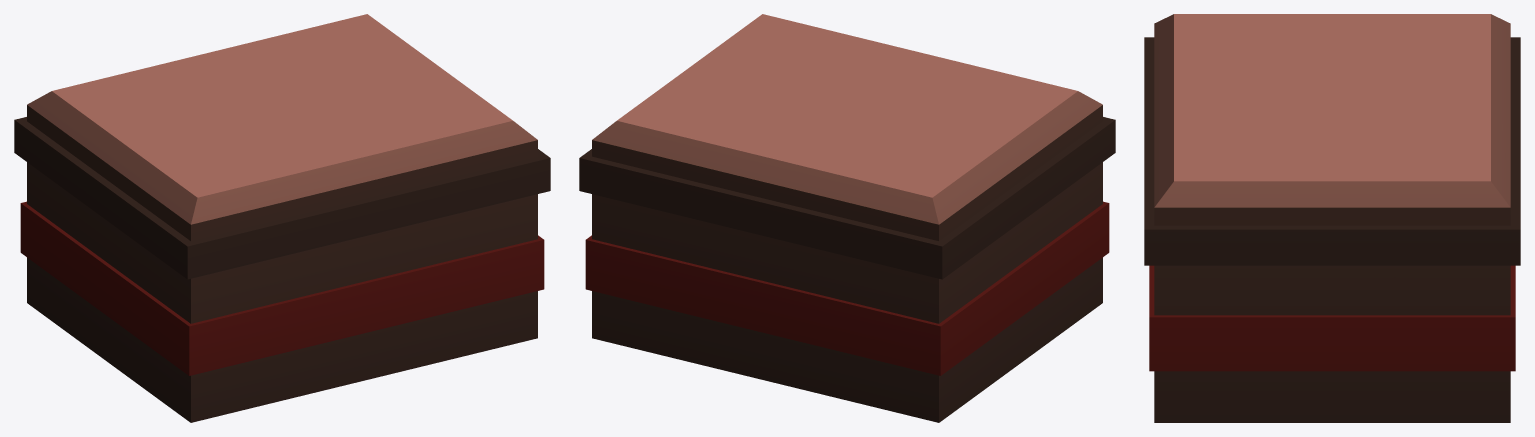
File: passive-provider-chest.glb
3 renders of one model, left to right at view 1: azimuth 30°, elevation 25°; view 2: azimuth 150°, elevation 25°; view 3: azimuth 270°, elevation 25°, orthographic. The views are drawn at different scales.
Visible parts, largest first — view 1: passive-provider-chest; view 2: passive-provider-chest; view 3: passive-provider-chest.
Boxes of the visible parts, x1,y1,x2,y2 form: passive-provider-chest: [14, 14, 550, 422]; passive-provider-chest: [579, 14, 1115, 422]; passive-provider-chest: [1144, 14, 1520, 422].
Bounding box in the file's own units: 0.23 × 0.13 × 0.19.
